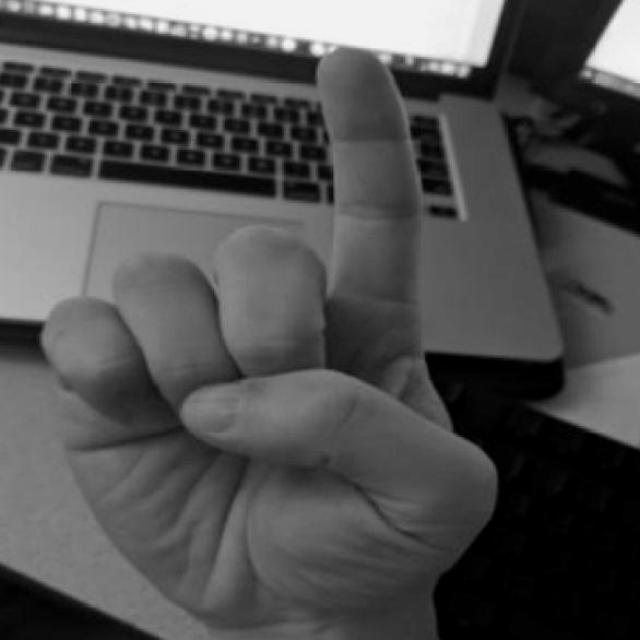D: (18, 35, 522, 640)
